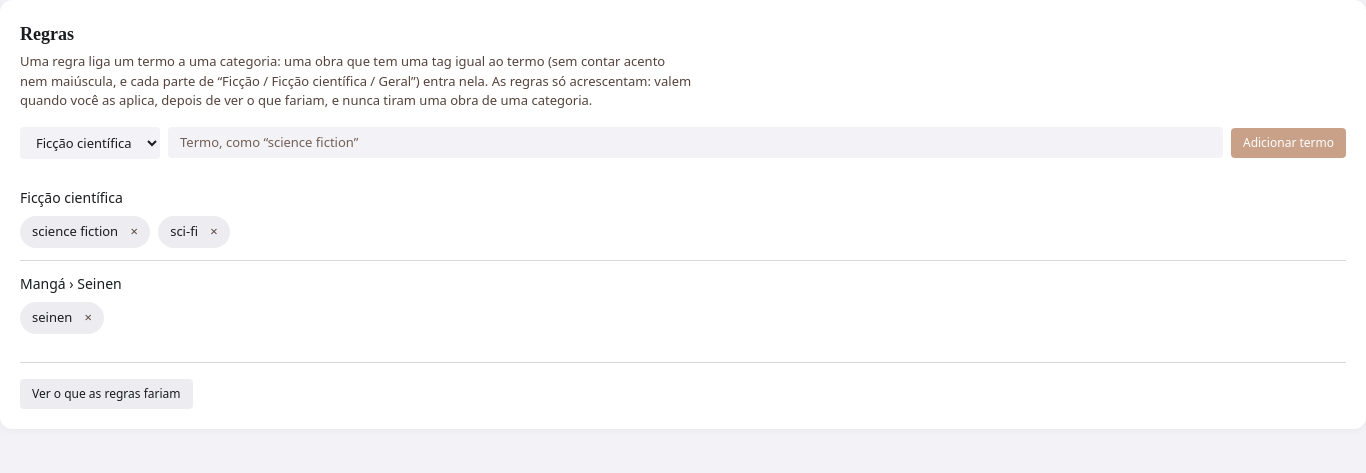
Test: CategoryRules: the terms › says what went wrong when a term cannot be taken off
Step 1. Click the button named "Tirar o termo seinen de Seinen" → {"x": 88, "y": 318}, box x1=76 y1=306 x2=100 y2=330
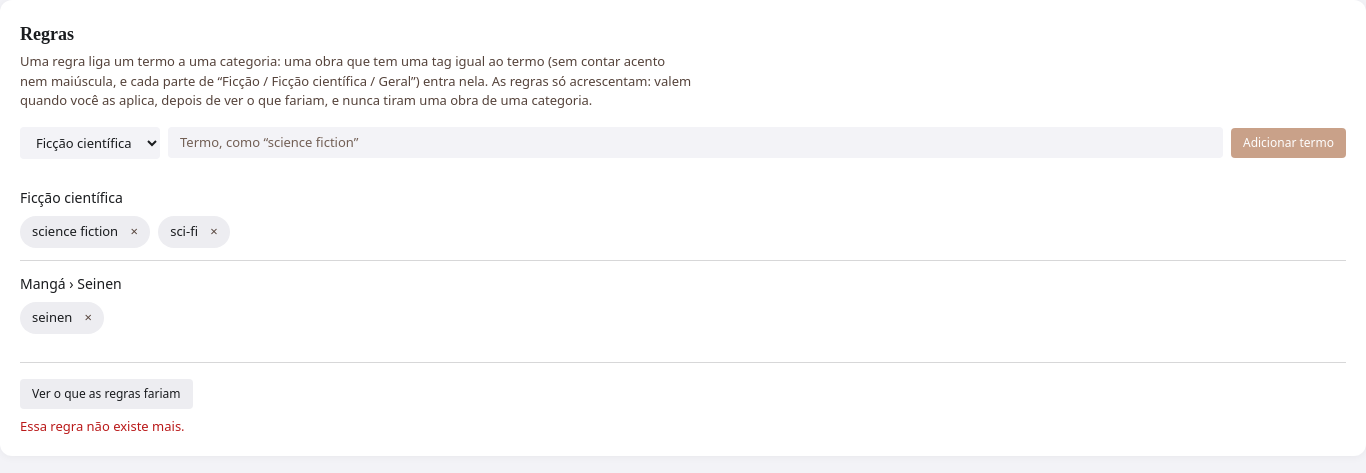
Result: the message "Essa regra não existe mais." is shown at x1=20 y1=416 x2=185 y2=434
